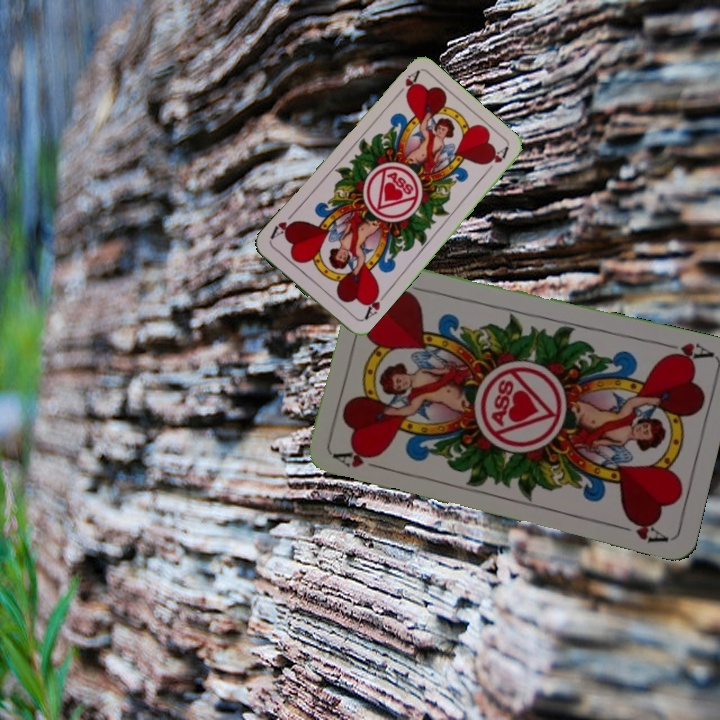HA: (656, 337, 715, 366), (331, 448, 389, 473), (358, 285, 389, 323), (390, 67, 422, 101)
